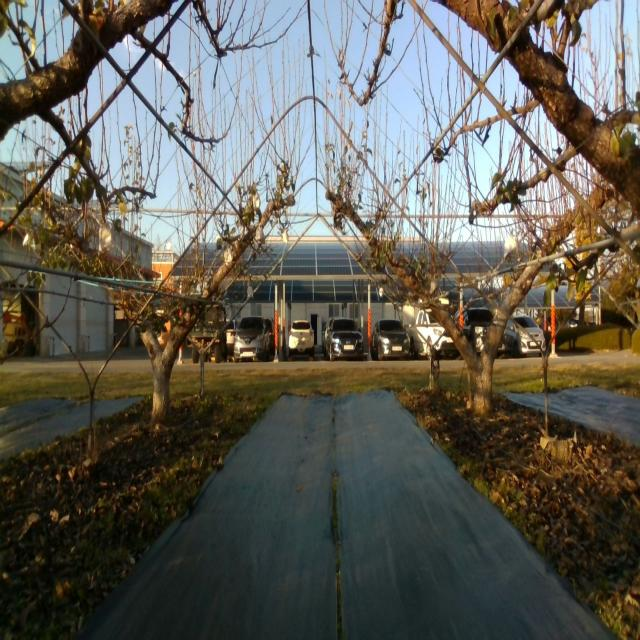pearbags: (97, 222, 115, 252), (504, 236, 517, 260)
